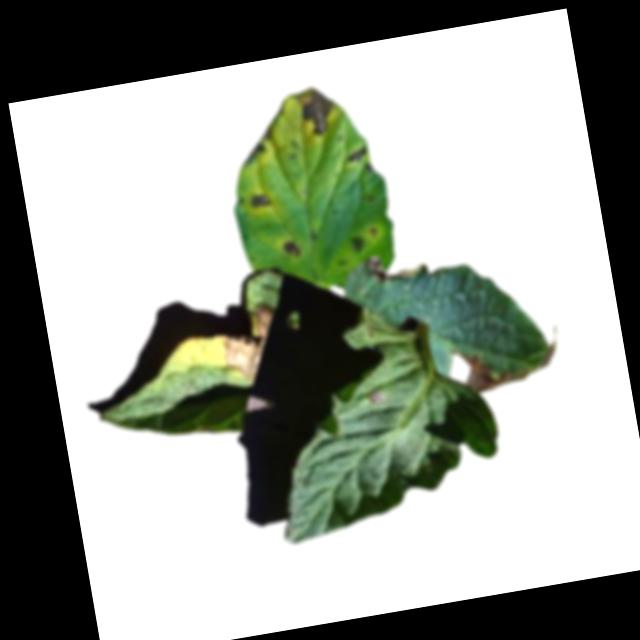Early_blight: (458, 324, 571, 396), (218, 303, 287, 385), (291, 80, 339, 139), (361, 248, 418, 291), (235, 141, 266, 165), (246, 189, 273, 211), (281, 237, 302, 261), (345, 231, 366, 255), (343, 144, 368, 162), (367, 388, 388, 407)
